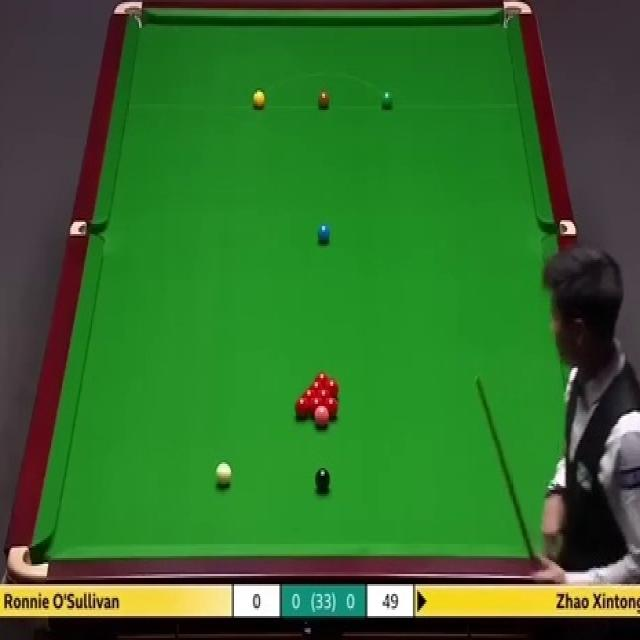black-ball: (314, 468, 332, 492)
blue-ball: (318, 223, 330, 249)
brown-ball: (317, 92, 330, 109)
green-ball: (382, 88, 396, 112)
pink-ball: (315, 405, 330, 428)
red-ball: (323, 379, 341, 400), (294, 396, 310, 419), (324, 397, 339, 419), (309, 397, 324, 417), (314, 370, 331, 385), (310, 381, 326, 395), (302, 389, 318, 402)
white-ball: (215, 459, 233, 486)
yellow-ball: (252, 89, 266, 110)
